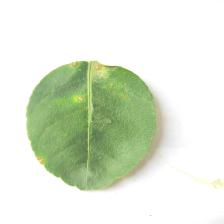canker: (35, 61, 133, 166)
